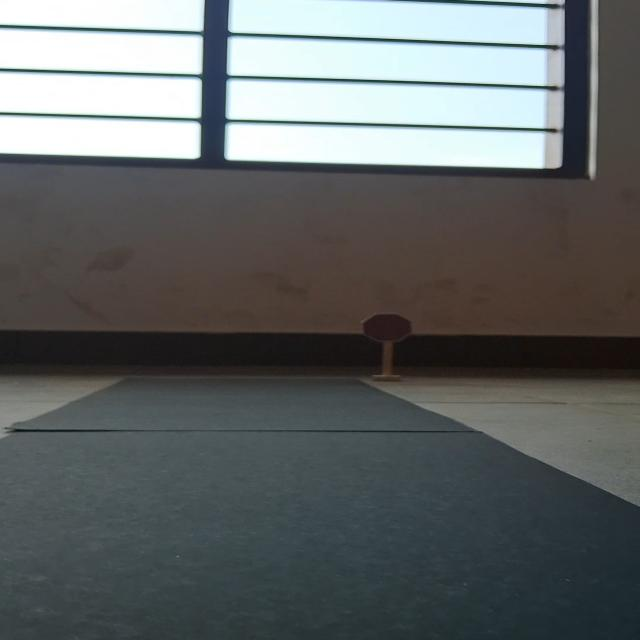Stop: (358, 312, 415, 342)
